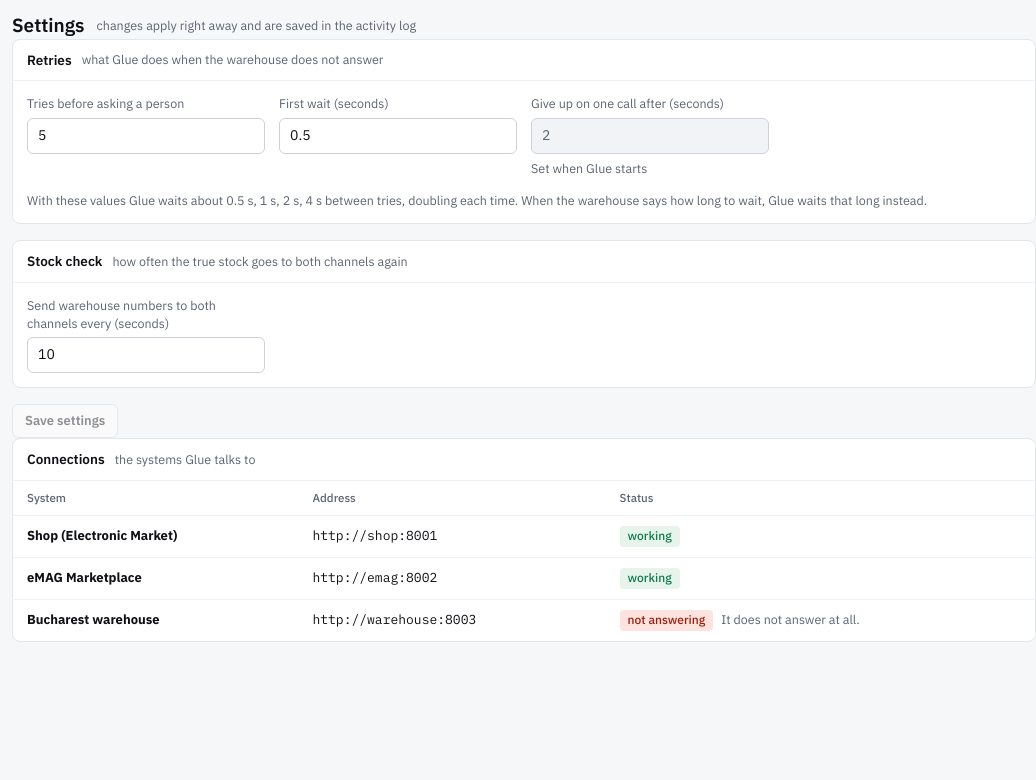
Test: says how long Glue waits as the tries and the first wait change
Expected: the text "waits about 0.5 s, 1 s, 2 s, 4 s between tries" is shown, [27,192,927,208]
Replace the text in the number field labelled "Tries before asking a person" with "3" at (146, 136), box [27,118,265,154]
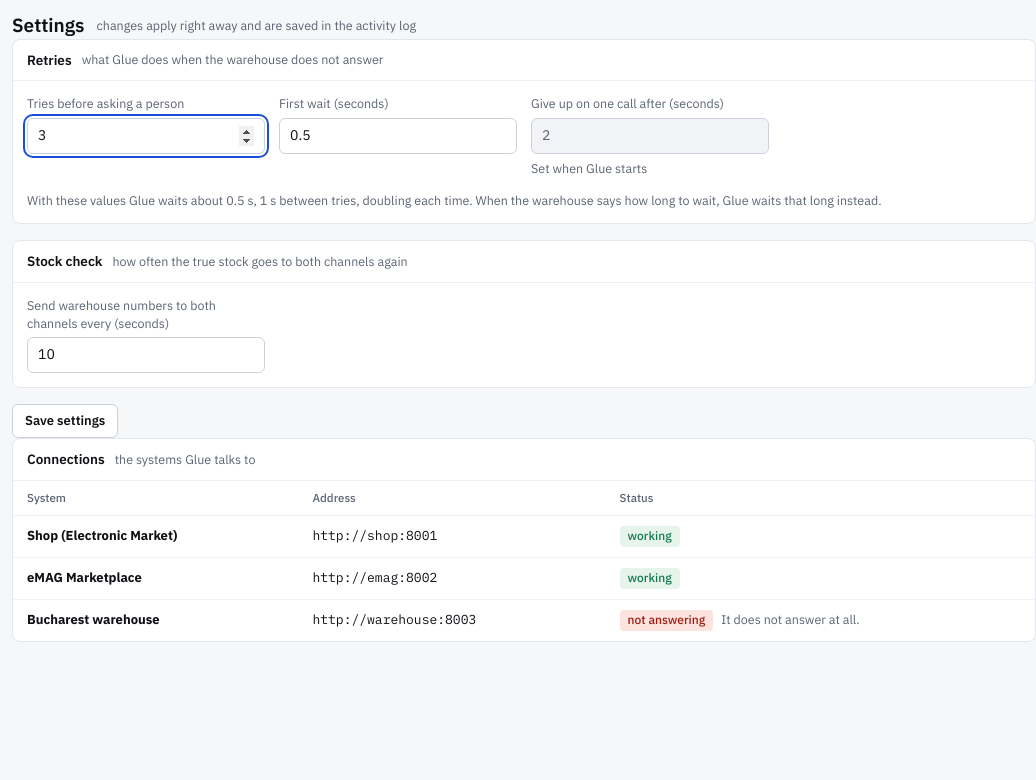
Expected: the text "waits about 0.5 s, 1 s between tries" is shown, [27,192,882,208]
Replace the text in the number field labelled "First wait (seconds)" with "1.5" at (398, 136), box [279,118,517,154]
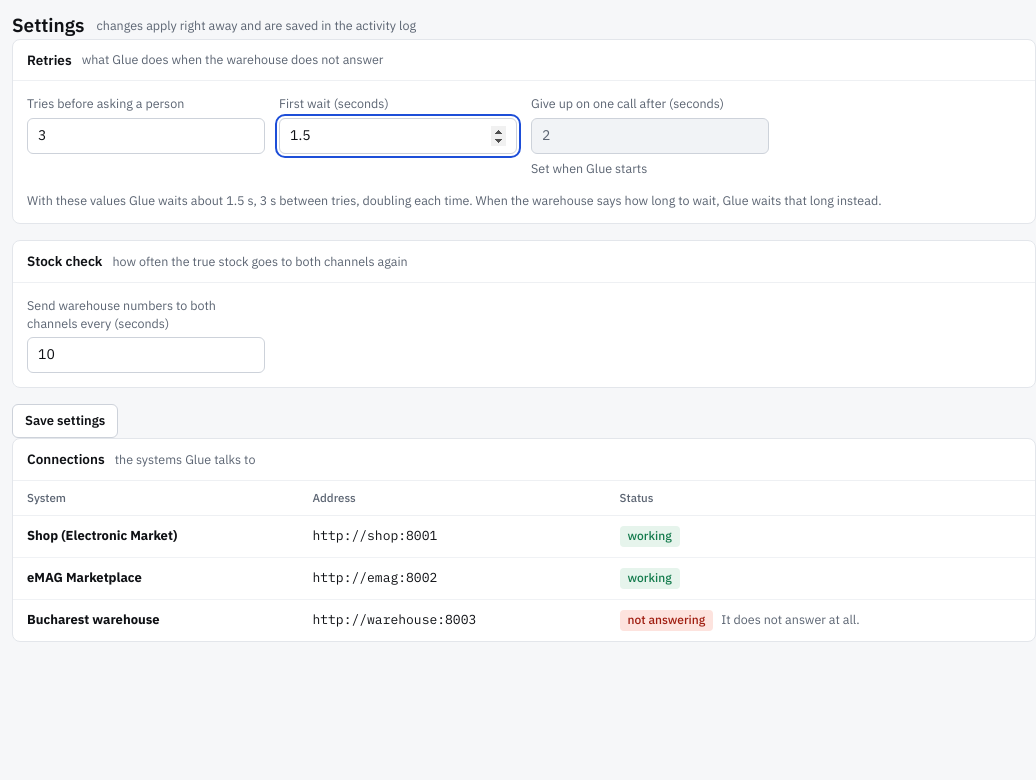
Expected: the text "waits about 1.5 s, 3 s between tries" is shown, [27,192,882,208]
Replace the text in the number field labelled "Tries before asking a person" with "1" at (146, 136), box [27,118,265,154]
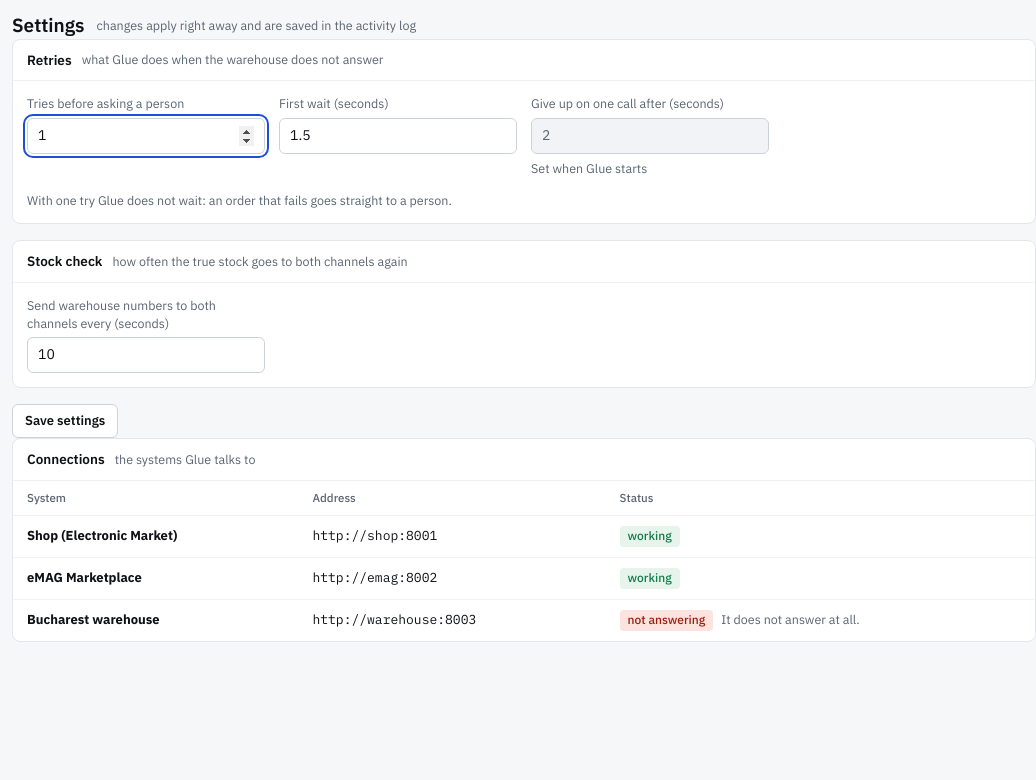
Expected: the text "does not wait" is shown, [27,192,452,208]
